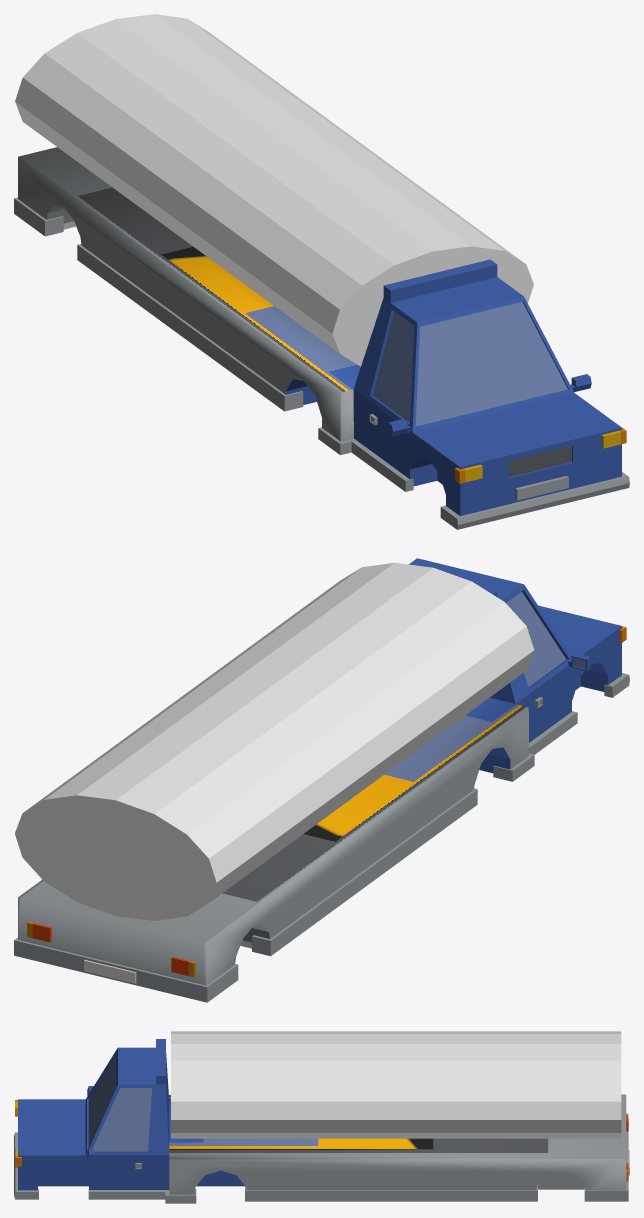
Rendered from Car_14 1.fbx.
The picture shows the model from 3 angles, top to bottom: view 1: azimuth 30°, elevation 25°; view 2: azimuth 150°, elevation 25°; view 3: azimuth 270°, elevation 25°; orthographic projection. The views are drawn at different scales.
Visible parts, largest first — view 1: Car_14, Cylinder; view 2: Cylinder, Car_14; view 3: Cylinder, Car_14.
Boxes of the visible parts, left/top/right/bottom form: Car_14: left=14, top=147, right=629, bottom=529; Cylinder: left=15, top=14, right=533, bottom=366; Cylinder: left=15, top=562, right=534, bottom=920; Car_14: left=14, top=558, right=629, bottom=1002; Cylinder: left=171, top=1031, right=621, bottom=1138; Car_14: left=14, top=1039, right=629, bottom=1203.
Size of the model in its own units: 200 by 168 by 744.
